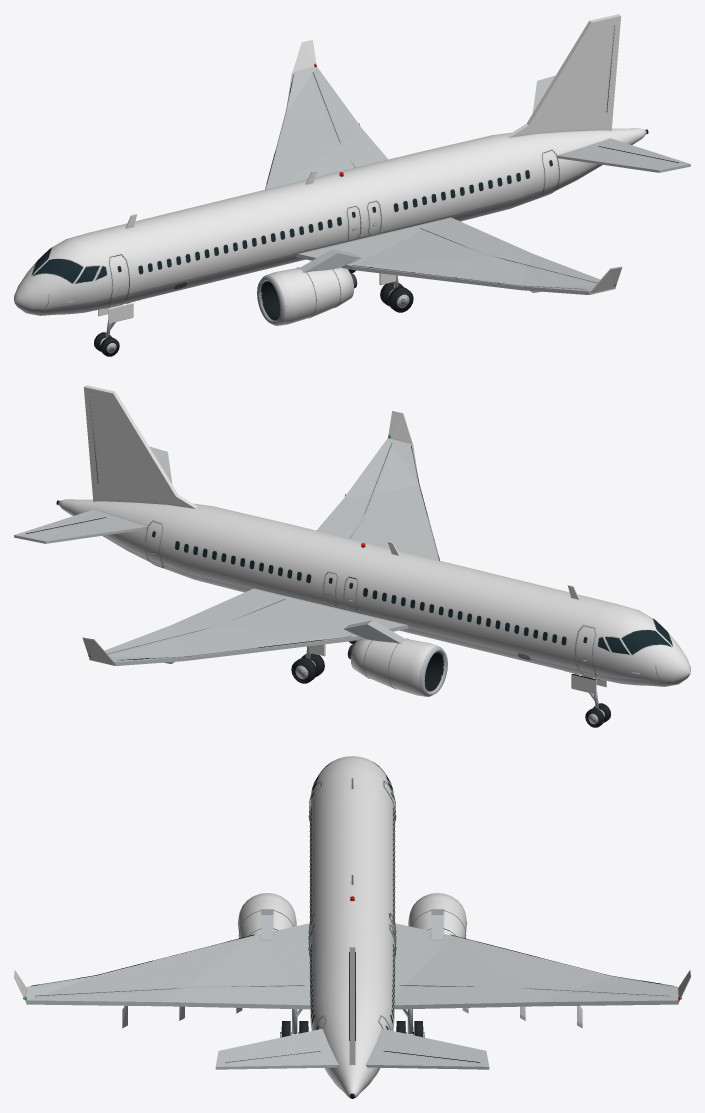
The model's file is airport_plane.glb.
3 renders of one model, top to bottom at view 1: azimuth 30°, elevation 25°; view 2: azimuth 150°, elevation 25°; view 3: azimuth 270°, elevation 25°, orthographic. The views are drawn at different scales.
Parts seen in each view (by area): view 1: AirportAirliner; view 2: AirportAirliner; view 3: AirportAirliner.
Boxes of the visible parts, x1,y1,x2,y2 form: AirportAirliner: [14, 14, 690, 356]; AirportAirliner: [14, 385, 690, 727]; AirportAirliner: [14, 756, 690, 1098].
Bounding box in the file's own units: 10.51 × 3.39 × 8.9.
Materials: 1 (1 with a texture image).
